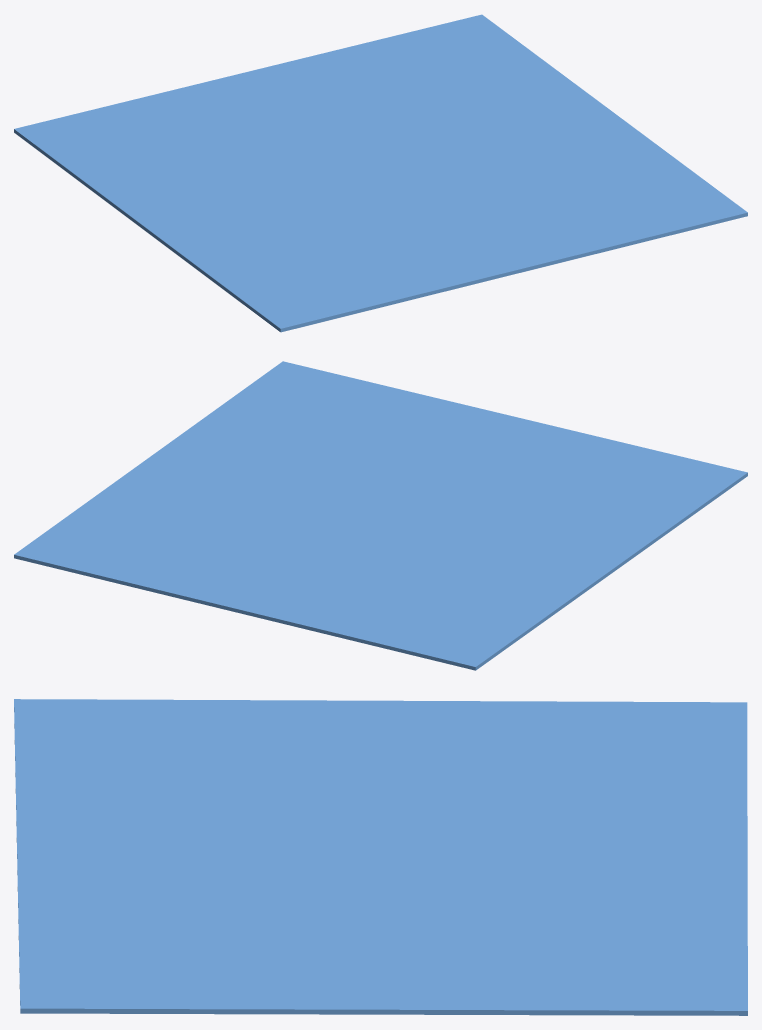
The picture shows the model from 3 angles, top to bottom: view 1: azimuth 30°, elevation 25°; view 2: azimuth 150°, elevation 25°; view 3: azimuth 270°, elevation 25°; orthographic projection. The views are drawn at different scales.
Bounding box in the file's own units: 414 × 3.05 × 412.
